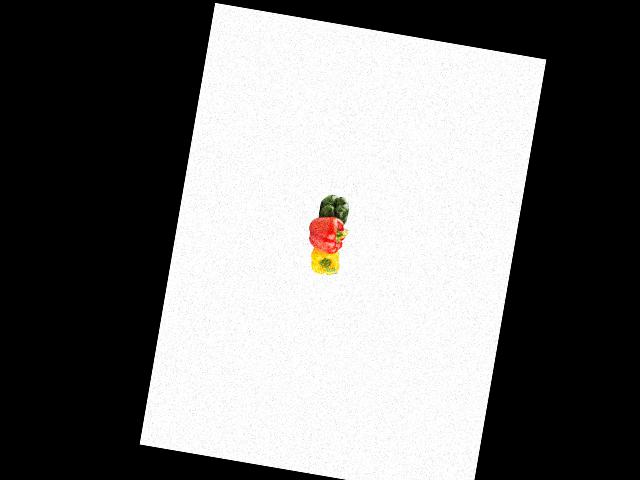bell_pepper: (302, 243, 345, 279)
